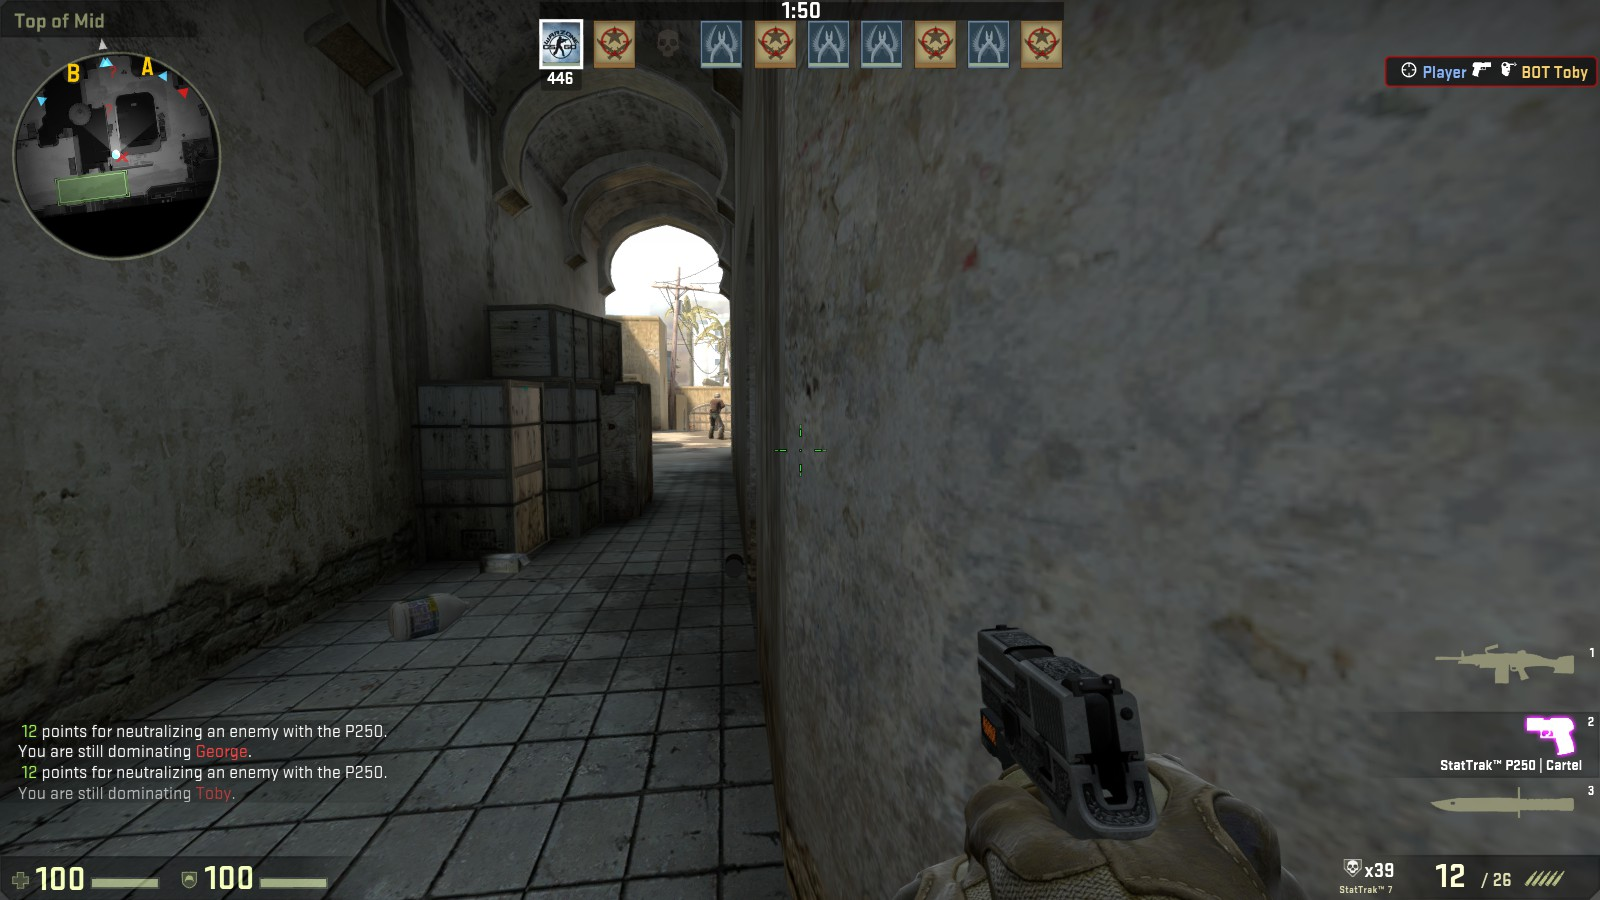t: (707, 392, 726, 438)
th: (712, 392, 721, 402)
